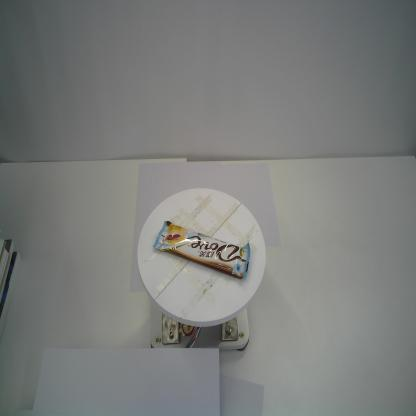Chocolate: (152, 218, 250, 282)
